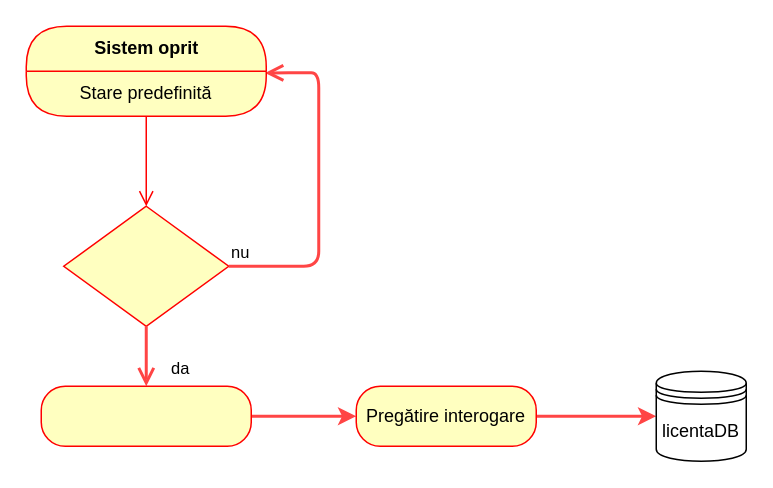
The diagram is 773 pixels wide and 488 high, and some of its shapes have lost their labels. The centre of each missing label's shape, as x and y in pixels:
"Pornire/Oprire inserări" goes at point 145,415.
"Power on?" goes at point 145,265.
